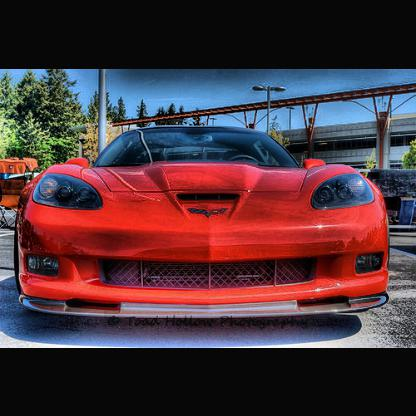Chevrolet Corvette ZR1 2012: (12, 122, 398, 335)
